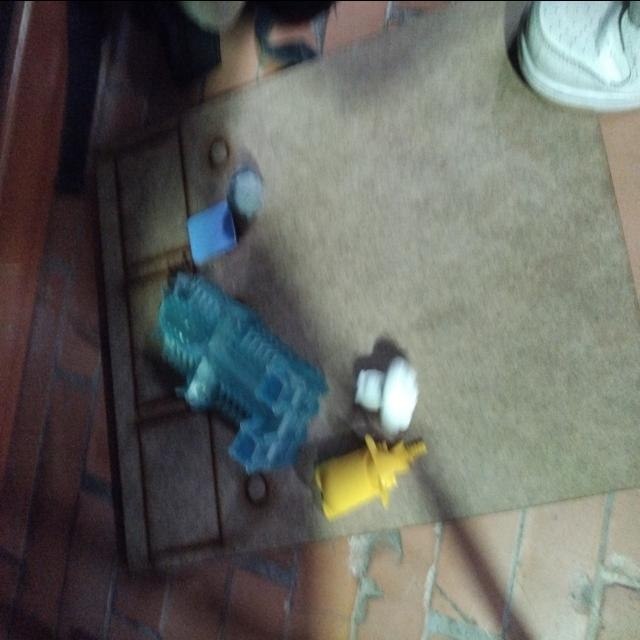Hongo: (354, 347, 422, 439)
